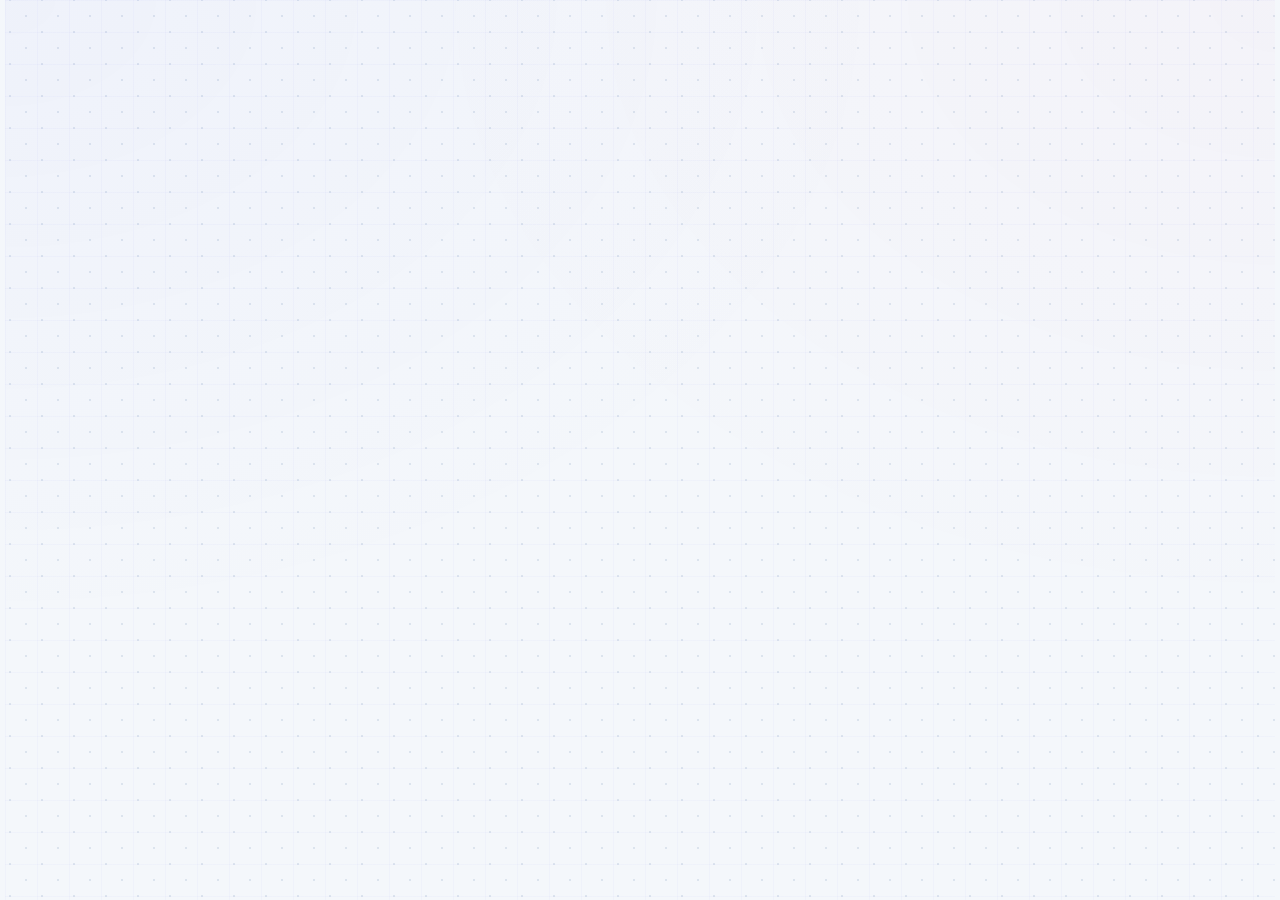
it: CommandPalette › searches math games and curriculum topics with category badges
Press k
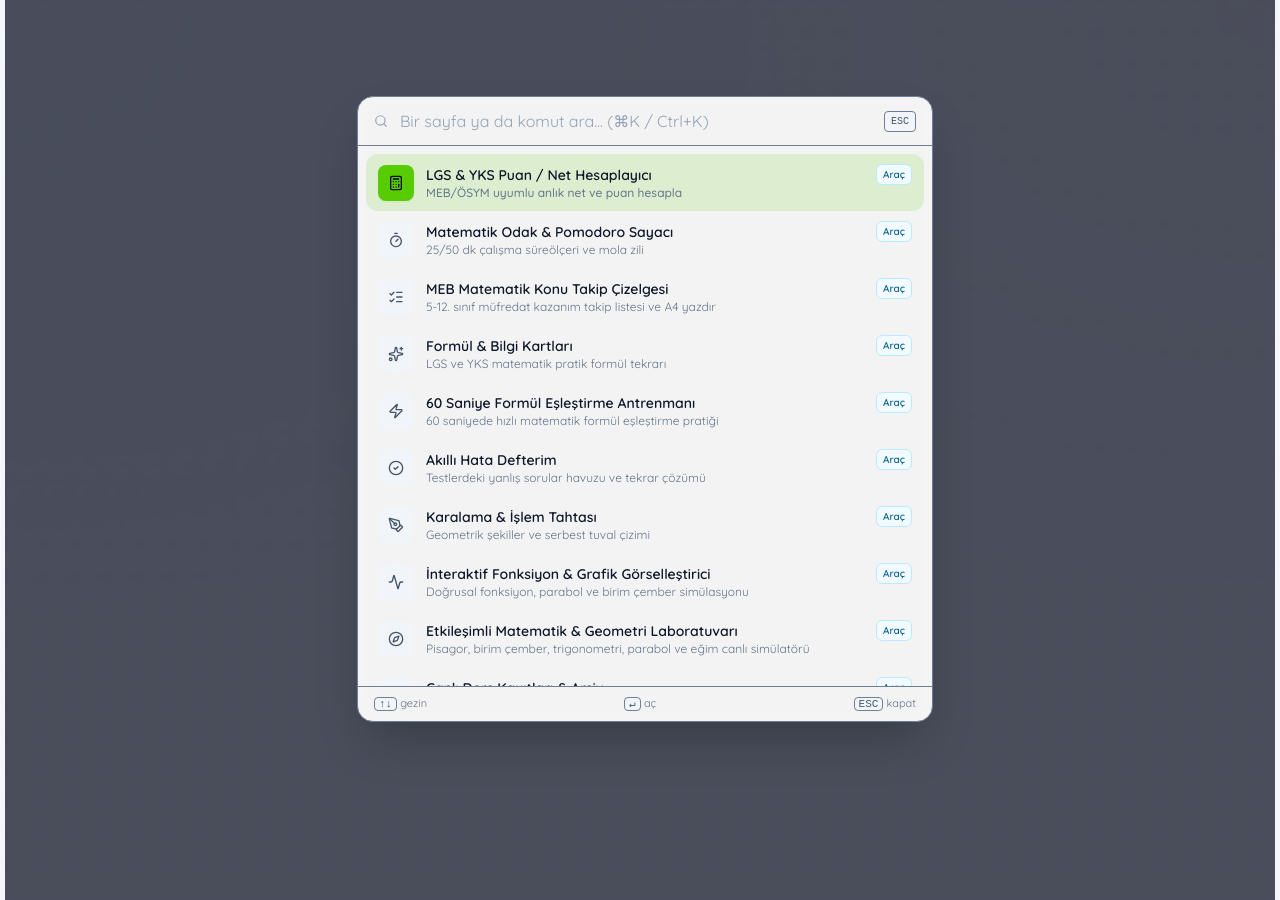
Type "pisagor" into the field with placeholder "Bir sayfa ya da komut ara... (⌘K / Ctrl+K)" at (636, 121), box [400,109,872,133]
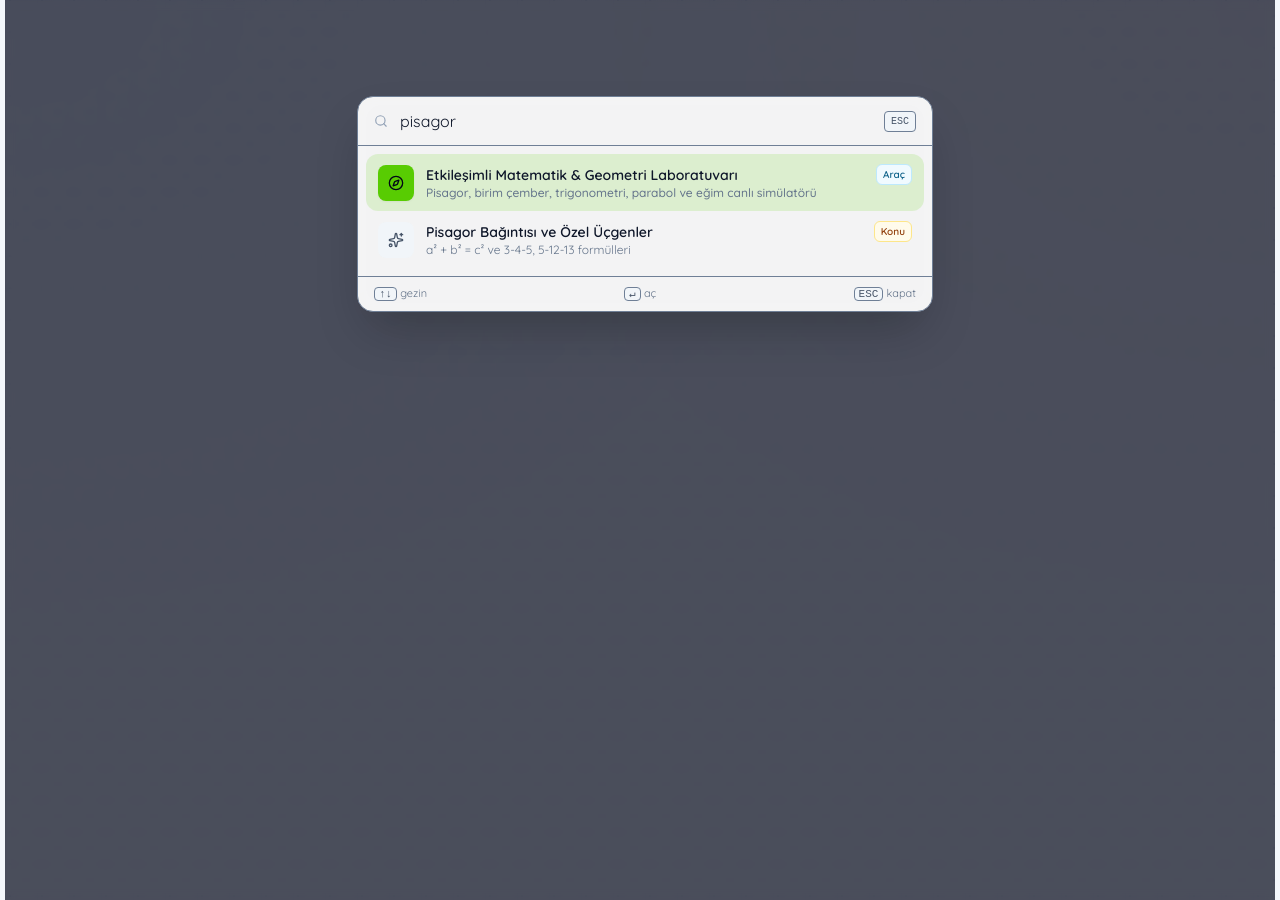
Now the text "Konu" is shown, box [874,221,912,242]
Now the text "Pisagor Bağıntısı ve Özel Üçgenler" is shown, box [426,222,653,242]
Replace the text in the field with placeholder "Bir sayfa ya da komut ara... (⌘K / Ctrl+K)" with "düello" at (636, 121), box [400,109,872,133]
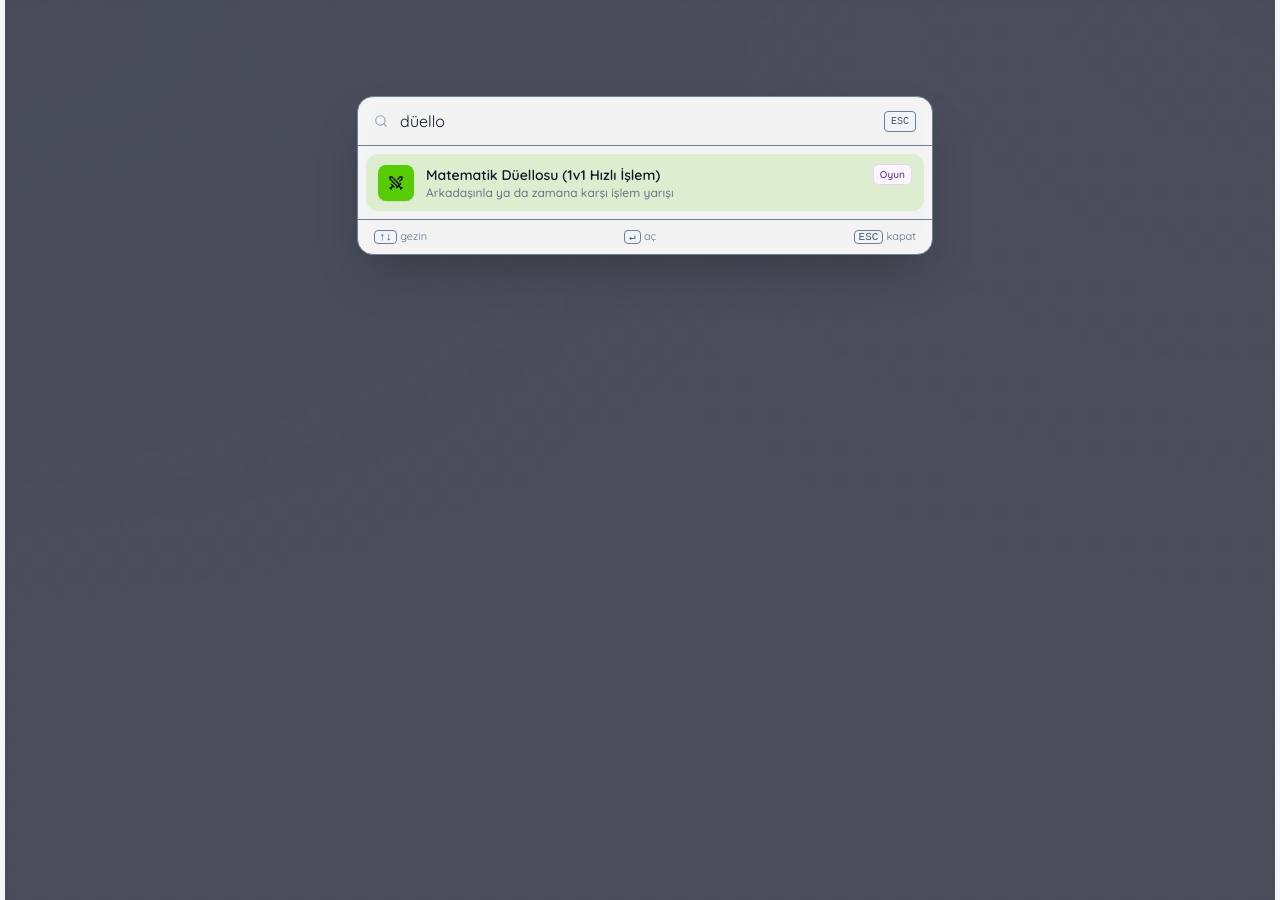
Now the text "Matematik Düellosu (1v1 Hızlı İşlem)" is shown, box [426,164,660,184]
Now the text "Oyun" is shown, box [873,164,912,185]
